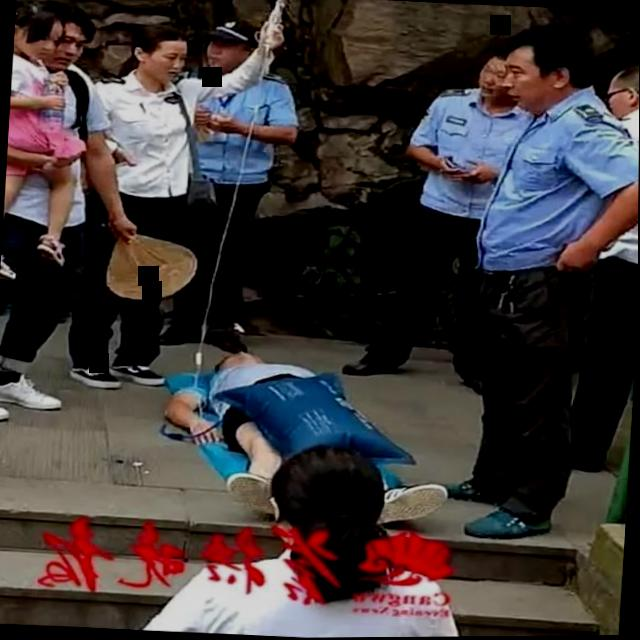Fall-Detected: (150, 322, 466, 531)
